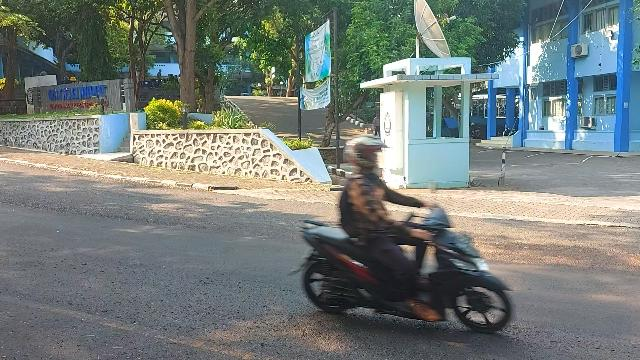motor: (288, 183, 515, 334), (344, 139, 390, 174)
